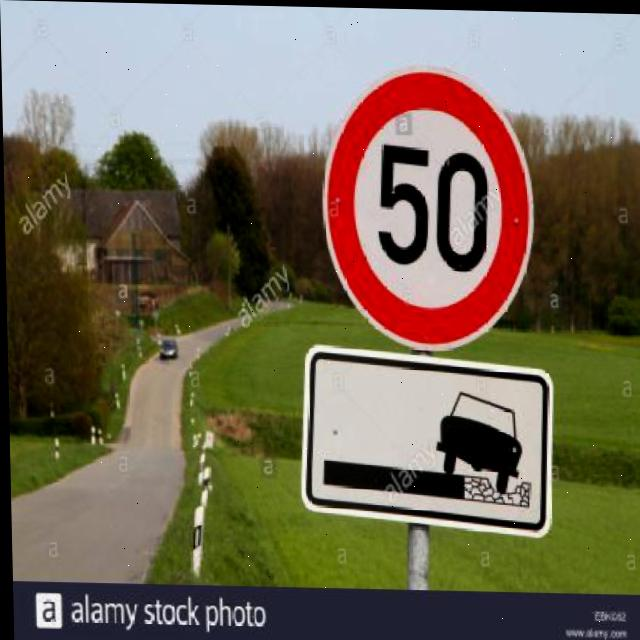Speed limit 50: (316, 62, 539, 353)
